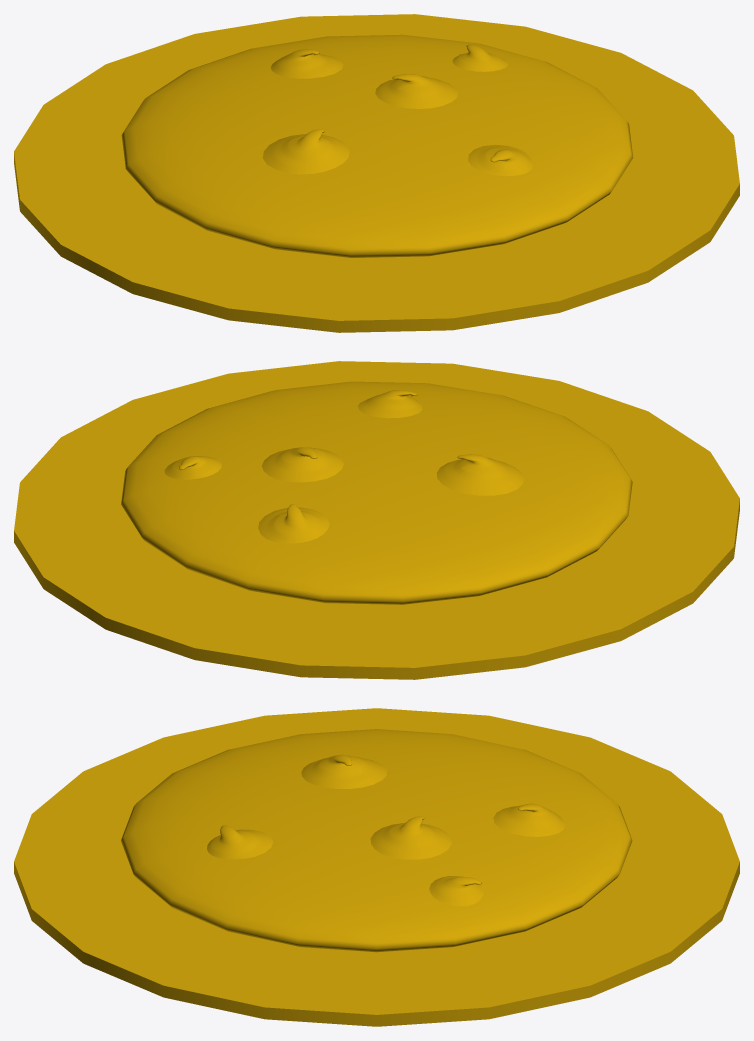
Rendered from cookieCoin.fbx.
The picture shows the model from 3 angles, top to bottom: view 1: azimuth 30°, elevation 25°; view 2: azimuth 150°, elevation 25°; view 3: azimuth 270°, elevation 25°; orthographic projection.
Visible parts, largest first — view 1: pCylinder1, pSphere1, pCone3, pCone5, pCone4, pCone2, pCone1; view 2: pCylinder1, pSphere1, pCone3, pCone5, pCone2, pCone4, pCone1; view 3: pCylinder1, pSphere1, pCone5, pCone3, pCone2, pCone4, pCone1.
Boxes of the visible parts, x1=… form: pCylinder1: x1=14, y1=14, x2=739, y2=332; pSphere1: x1=121, y1=34, x2=633, y2=257; pCone3: x1=263, y1=129, x2=349, y2=174; pCone5: x1=375, y1=74, x2=458, y2=108; pCone4: x1=468, y1=144, x2=533, y2=175; pCone2: x1=270, y1=49, x2=343, y2=78; pCone1: x1=452, y1=44, x2=508, y2=71; pCylinder1: x1=14, y1=361, x2=739, y2=679; pSphere1: x1=121, y1=381, x2=632, y2=604; pCone3: x1=436, y1=454, x2=524, y2=495; pCone5: x1=262, y1=447, x2=343, y2=482; pCone2: x1=258, y1=504, x2=329, y2=543; pCone4: x1=358, y1=390, x2=422, y2=418; pCone1: x1=164, y1=456, x2=221, y2=479; pCylinder1: x1=14, y1=708, x2=739, y2=1026; pSphere1: x1=121, y1=729, x2=632, y2=952; pCone5: x1=370, y1=816, x2=451, y2=859; pCone3: x1=301, y1=754, x2=386, y2=789; pCone2: x1=493, y1=803, x2=565, y2=836; pCone4: x1=207, y1=825, x2=273, y2=859; pCone1: x1=429, y1=876, x2=483, y2=906.
Bounding box in the file's own units: 1.45 × 0.1715 × 1.45.
